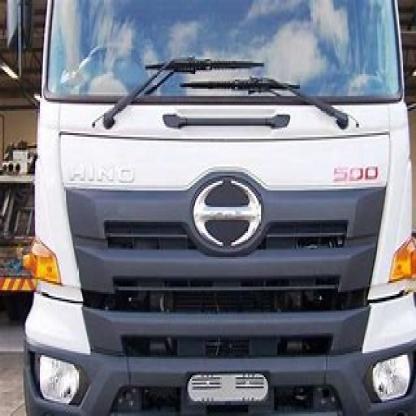dump_truck: (23, 0, 415, 414)
